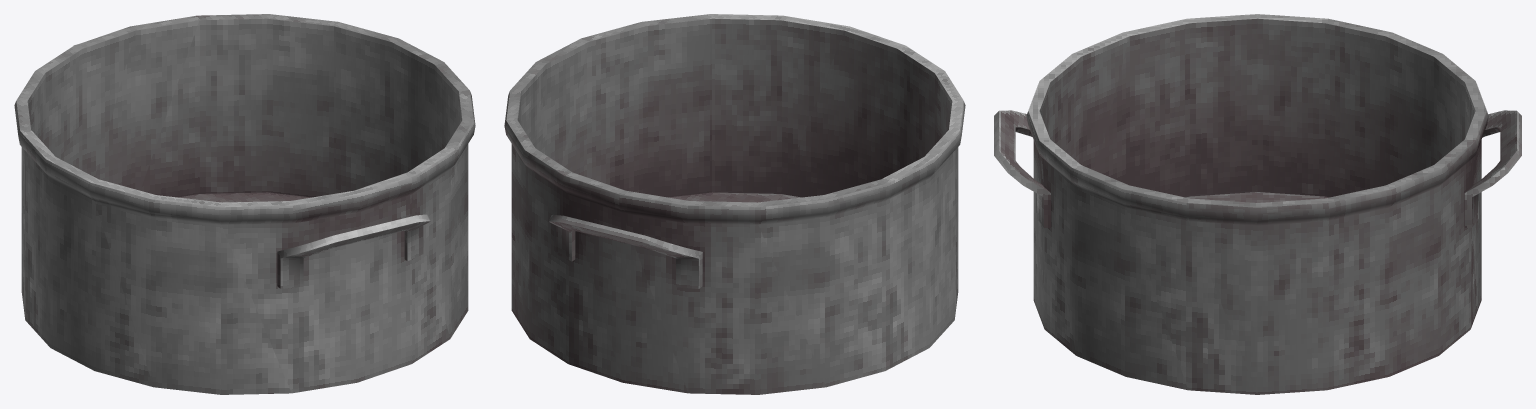
The model's file is pot_cooking.glb.
3 renders of one model, left to right at view 1: azimuth 30°, elevation 25°; view 2: azimuth 150°, elevation 25°; view 3: azimuth 270°, elevation 25°, orthographic.
Visible parts, largest first — view 1: mesh; view 2: mesh; view 3: mesh.
Boxes of the visible parts, x1=… form: mesh: x1=14, y1=14, x2=475, y2=394; mesh: x1=504, y1=14, x2=965, y2=394; mesh: x1=994, y1=14, x2=1521, y2=394.
Size of the model in its own units: 0.3318 by 0.15 by 0.3788.
1 material, 1 textured.
